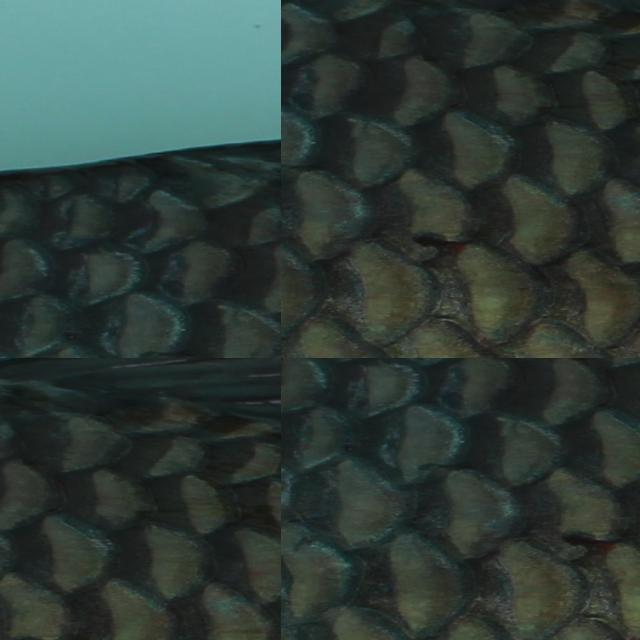fish: (281, 358, 640, 640), (0, 358, 281, 640)
